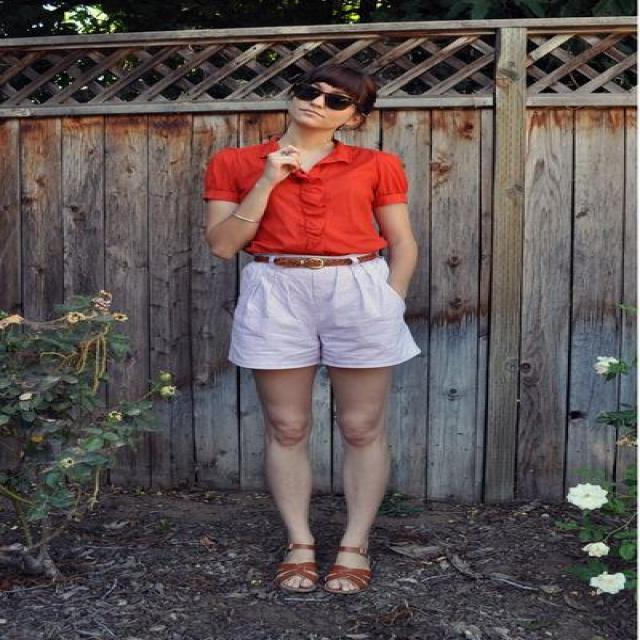shirt: (205, 141, 406, 242)
shoe: (296, 562, 368, 590)
shorts: (229, 254, 419, 368)
